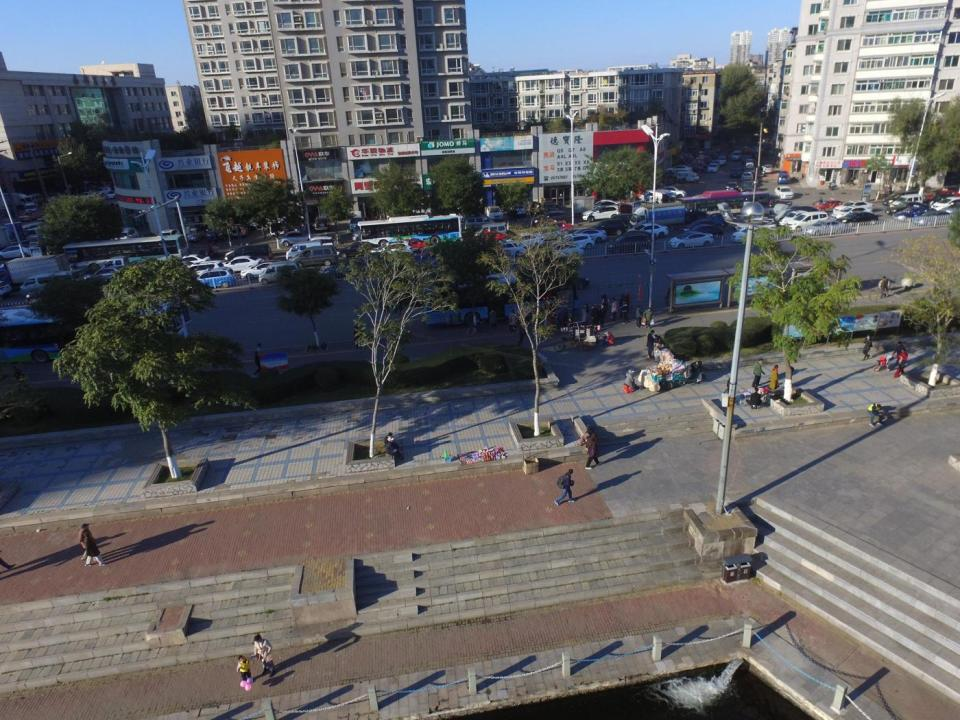bus: (0, 299, 197, 369), (418, 272, 582, 323), (62, 234, 188, 274), (678, 185, 770, 231), (355, 213, 464, 249)
car: (23, 284, 80, 308), (726, 211, 774, 235), (238, 258, 288, 280), (322, 261, 374, 281), (605, 233, 651, 255), (801, 218, 845, 241), (82, 266, 131, 286), (731, 226, 780, 246), (369, 241, 415, 262), (542, 270, 590, 290), (220, 255, 265, 276), (668, 231, 716, 250), (616, 230, 659, 251), (195, 266, 236, 288), (684, 219, 726, 240), (779, 205, 820, 226), (682, 224, 724, 244), (626, 222, 670, 241), (834, 212, 878, 231), (736, 218, 777, 238), (335, 241, 382, 258), (188, 260, 227, 280), (543, 243, 584, 262), (584, 218, 627, 236), (108, 225, 138, 250), (488, 241, 529, 259), (567, 227, 608, 245), (277, 229, 320, 246), (467, 230, 507, 248), (555, 234, 595, 252), (893, 206, 933, 224), (885, 202, 930, 218), (698, 211, 735, 230), (912, 209, 953, 226), (833, 200, 876, 216), (300, 236, 338, 254), (505, 233, 545, 250), (832, 208, 874, 224), (0, 243, 35, 262), (605, 212, 643, 229), (613, 202, 645, 222), (923, 186, 960, 203), (930, 195, 959, 216), (176, 253, 211, 270), (167, 257, 199, 275), (529, 227, 564, 243), (152, 229, 181, 248), (36, 214, 68, 231), (656, 184, 686, 202), (581, 206, 621, 219), (589, 198, 626, 212), (542, 220, 575, 235), (535, 210, 570, 224), (56, 262, 86, 278), (131, 229, 156, 248), (663, 164, 693, 178), (928, 195, 960, 208), (226, 222, 251, 238), (206, 224, 227, 242), (818, 198, 846, 211), (314, 214, 333, 232), (486, 204, 505, 222), (60, 194, 84, 208), (508, 200, 526, 218), (18, 209, 44, 221), (182, 227, 204, 241), (774, 186, 796, 200), (741, 180, 756, 196), (79, 191, 99, 202), (767, 193, 783, 206), (543, 199, 558, 212), (725, 181, 739, 194), (777, 172, 791, 185), (243, 218, 258, 230), (96, 186, 115, 195), (106, 190, 124, 199), (707, 162, 719, 173), (730, 167, 742, 178), (743, 166, 755, 177), (744, 161, 756, 172), (762, 164, 775, 174), (742, 170, 753, 181), (711, 159, 721, 170), (744, 158, 755, 168), (716, 155, 727, 165)
truck: (0, 251, 72, 287), (630, 203, 685, 231), (101, 255, 161, 280), (0, 190, 38, 214)
van: (18, 269, 84, 300), (787, 210, 831, 236), (288, 246, 338, 268), (224, 244, 274, 264), (283, 239, 324, 262), (258, 264, 300, 286), (883, 189, 922, 210), (889, 194, 924, 214), (471, 223, 508, 241), (639, 189, 676, 207), (462, 214, 497, 232), (19, 220, 47, 241), (27, 225, 54, 246), (348, 210, 366, 232), (674, 170, 699, 185), (27, 192, 45, 207), (732, 149, 743, 161)
